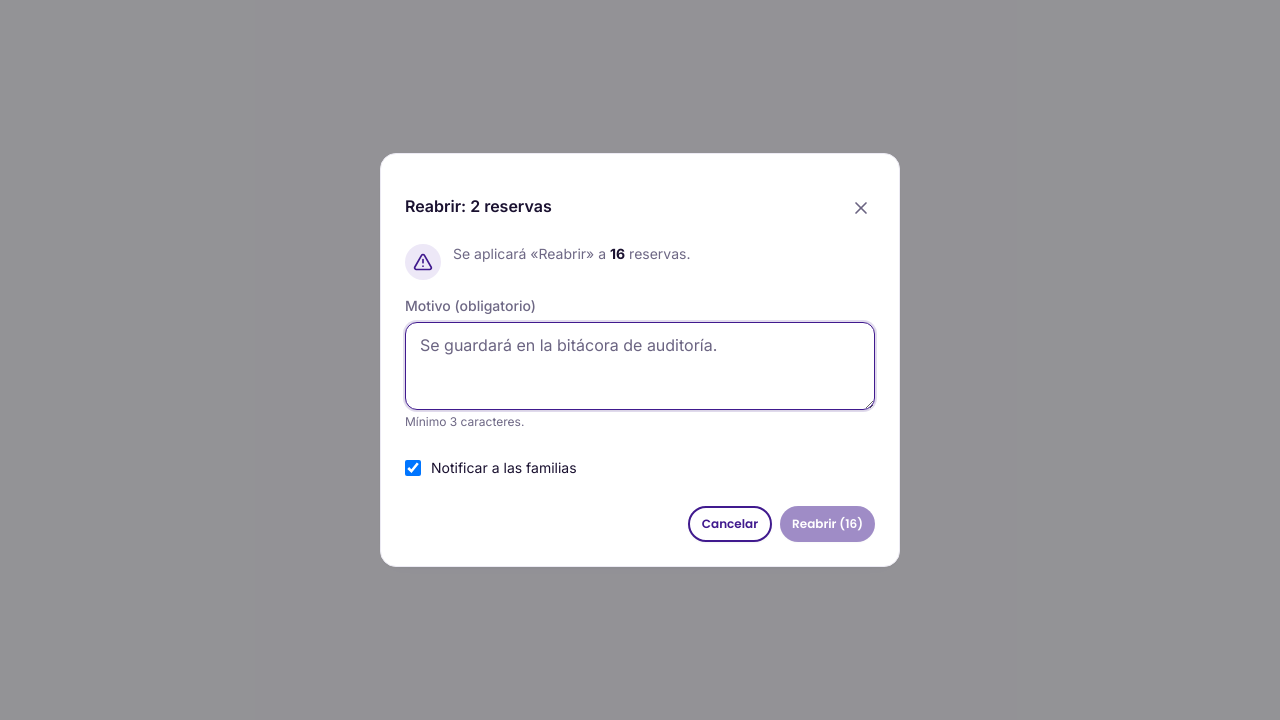
it: BulkConfirmDialog › requires a note for reverse transitions and sends notify in the payload
Expected: the button "Reabrir (16)" is disabled, [780,506,875,542]
// Same passive-effect focus move as above: wait for it instead of racing it.
In the text box labelled "Motivo (obligatorio)": (640, 366) [405,322,875,410], type "Error de captura"
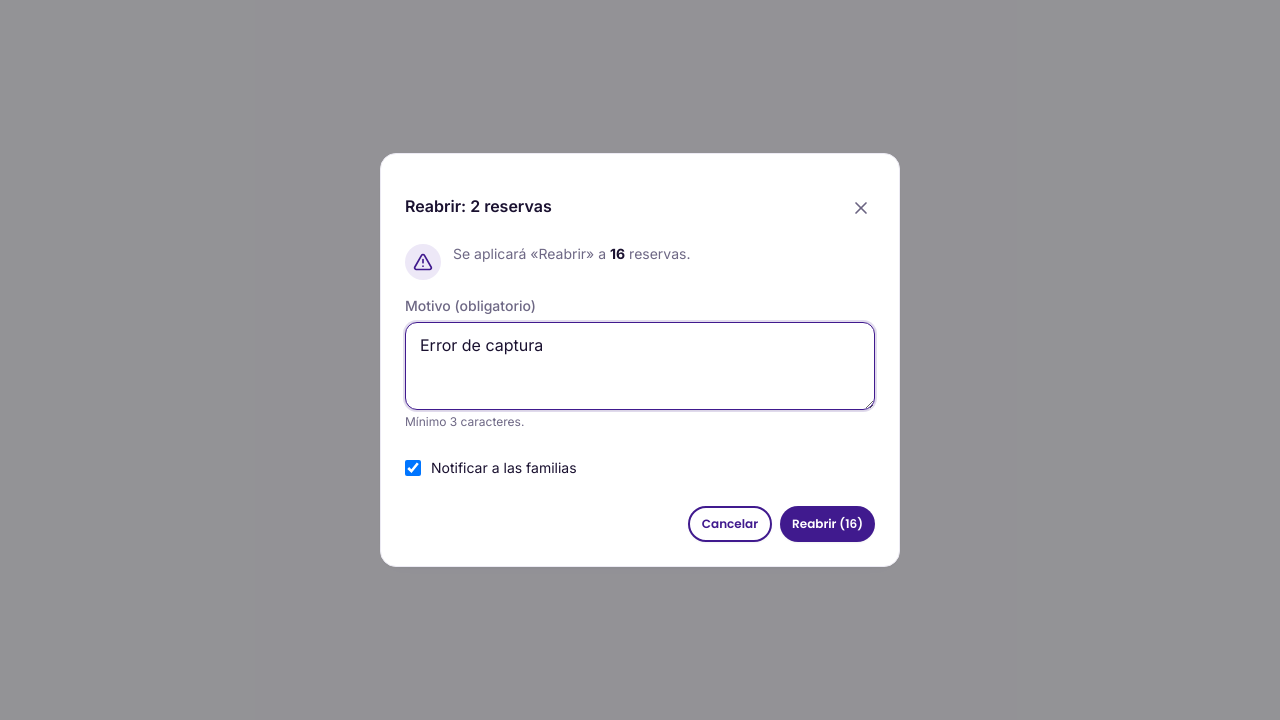
Click the checkbox labelled "Notificar a las familias": (413, 468) [405,460,421,476]
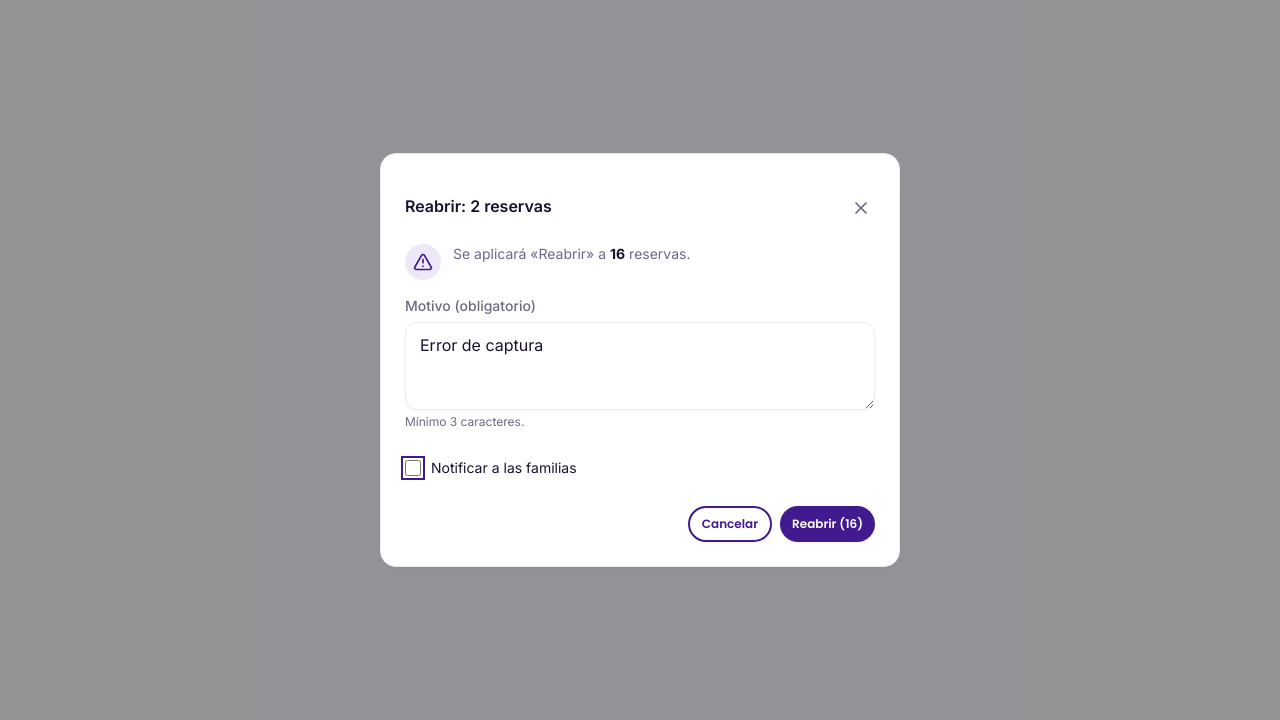
Now the button "Reabrir (16)" is enabled
Click the button "Reabrir (16)": (828, 524) [780,506,875,542]
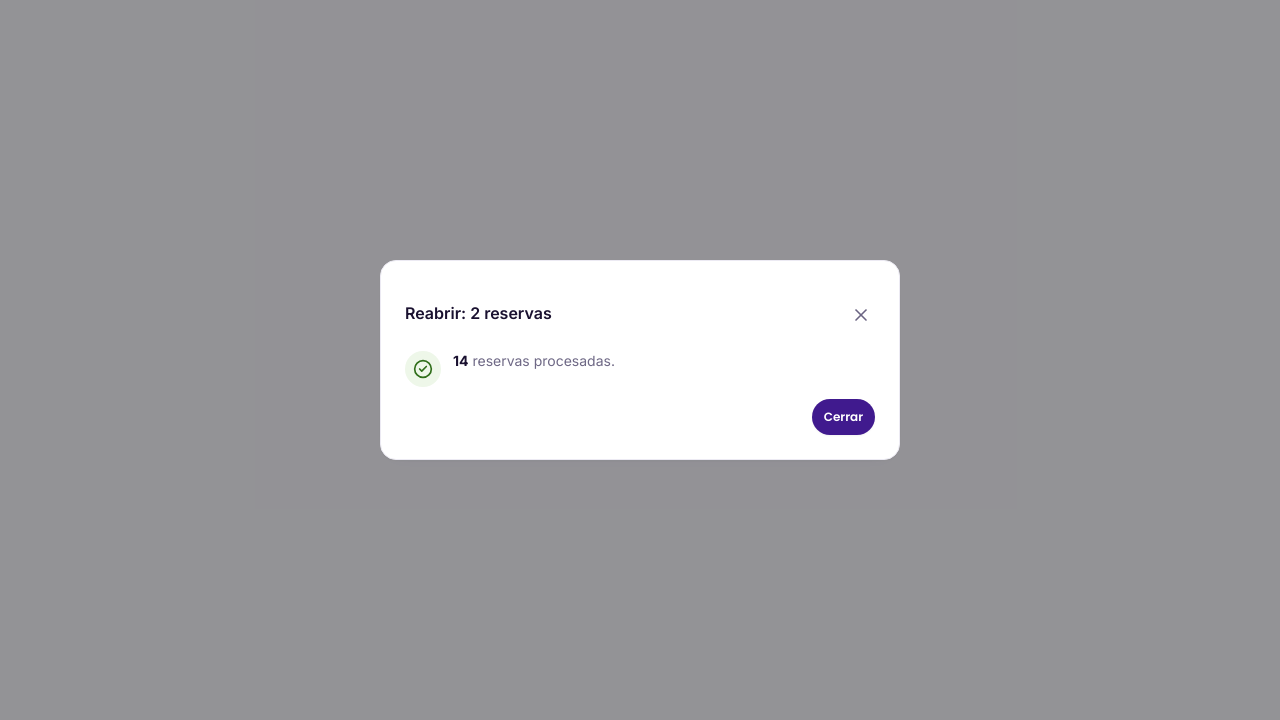
Now the message reads "14 reservas procesadas.", box [453,352,615,369]
